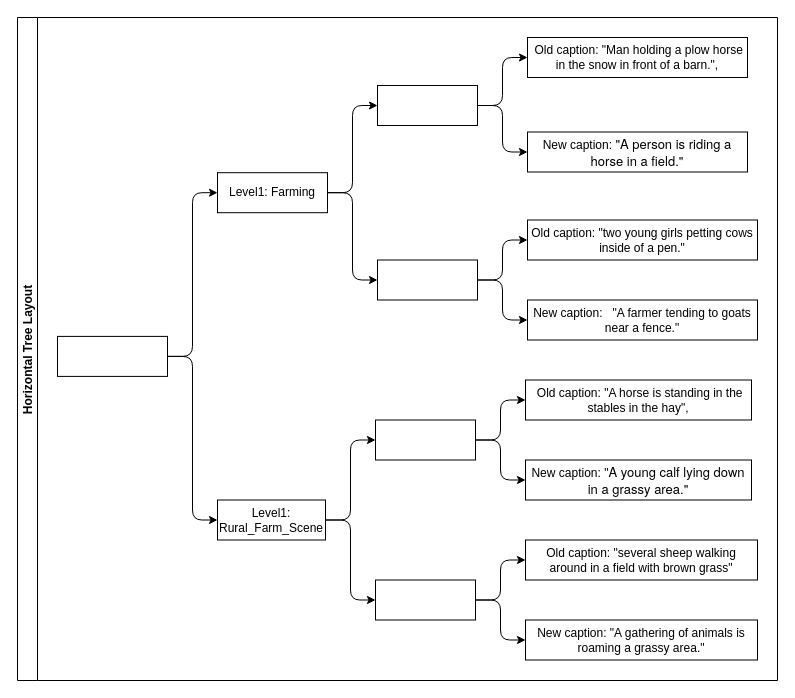
Some shapes in this 795 by 698 pixel diagram are drawn without their labels. Here are the shapes that lost their labels. From the top down, the centre of each, then its label:
[427,105]: Image 164391
[427,279]: Image 231295
[112,355]: Level2: Agriculture
[425,439]: Image 252048
[425,599]: Image 24207
